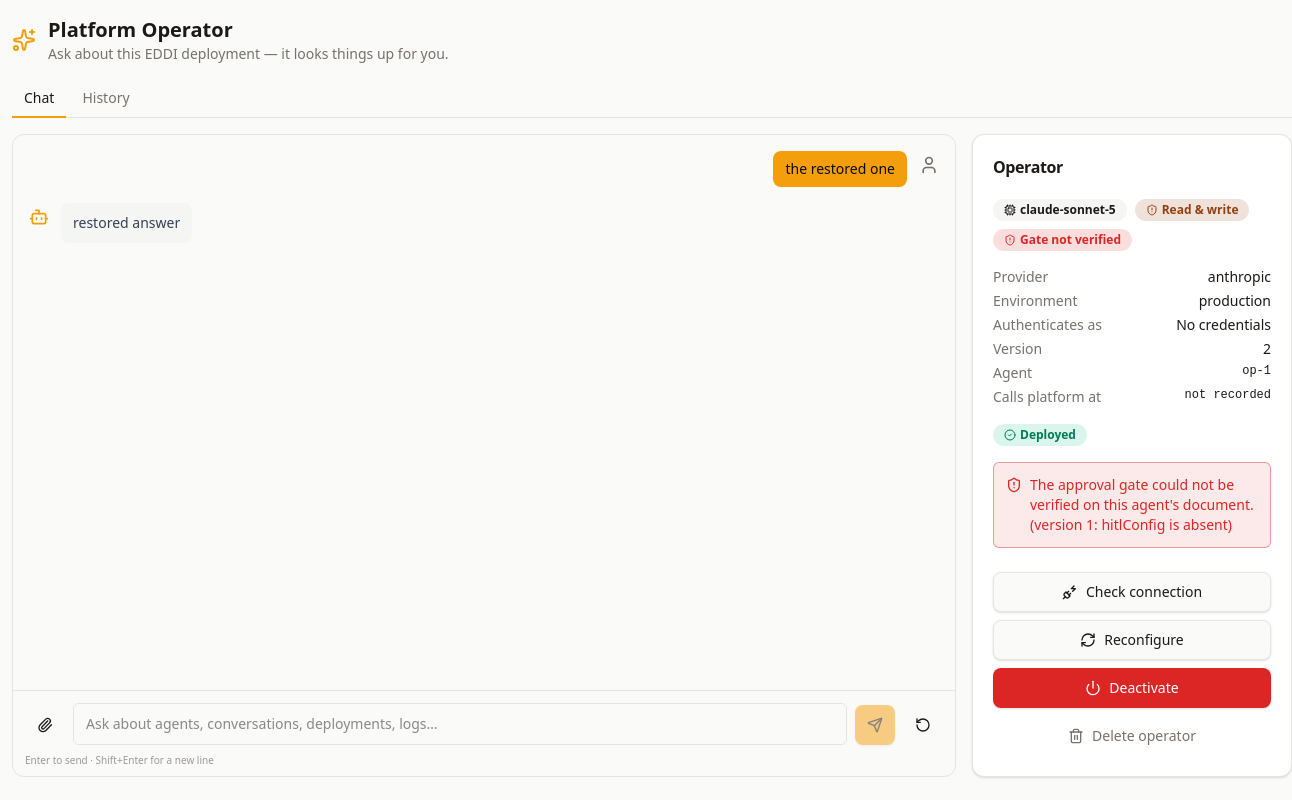
Test: OperatorPage — conversation history › loads a picked conversation into the chat and switches back to it
What coordinates should you click on to do the following:
click the tab with test id "operator-tab-history"
I would click on:
 (106, 99)
Its box is 70,80 -> 142,118.
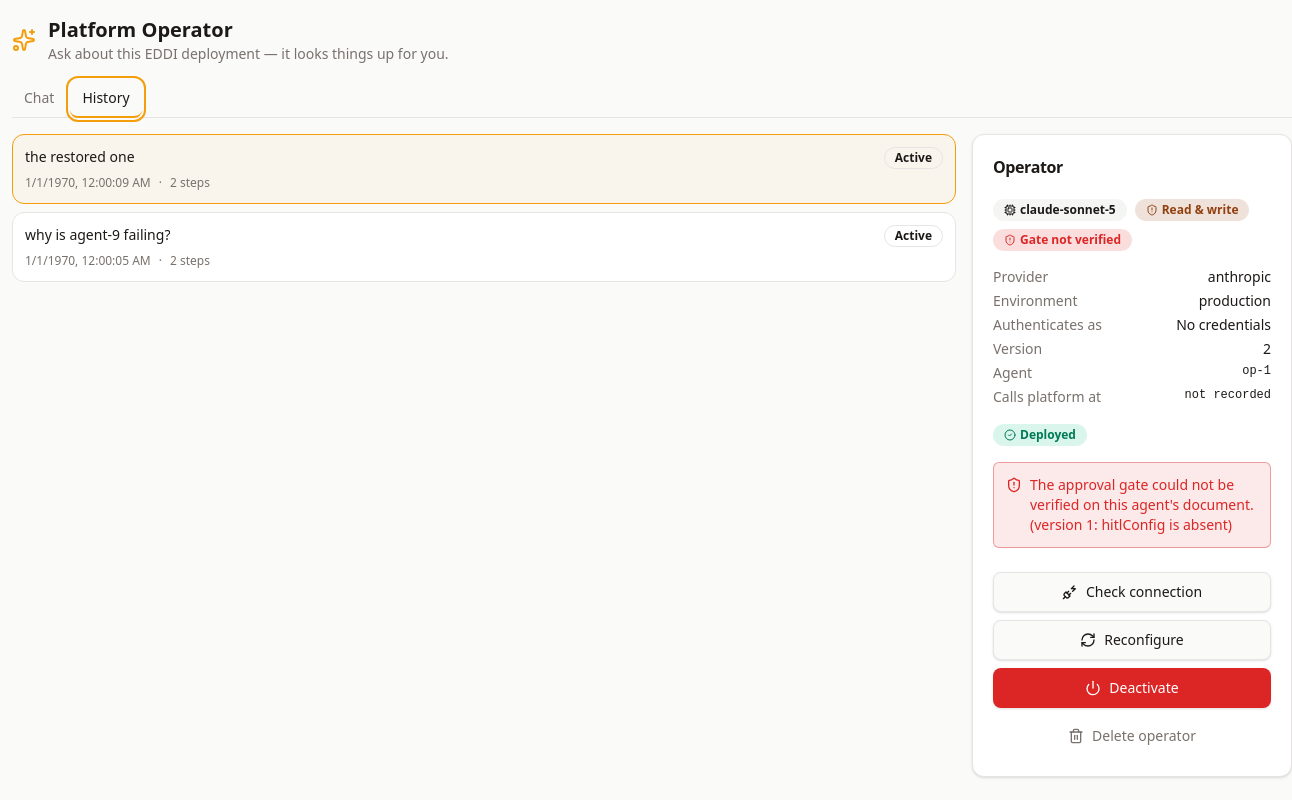
What coordinates should you click on to do the following:
click the button with test id "operator-conversation-conv-a"
I would click on:
 (98, 234)
Its box is 12,212 -> 956,282.
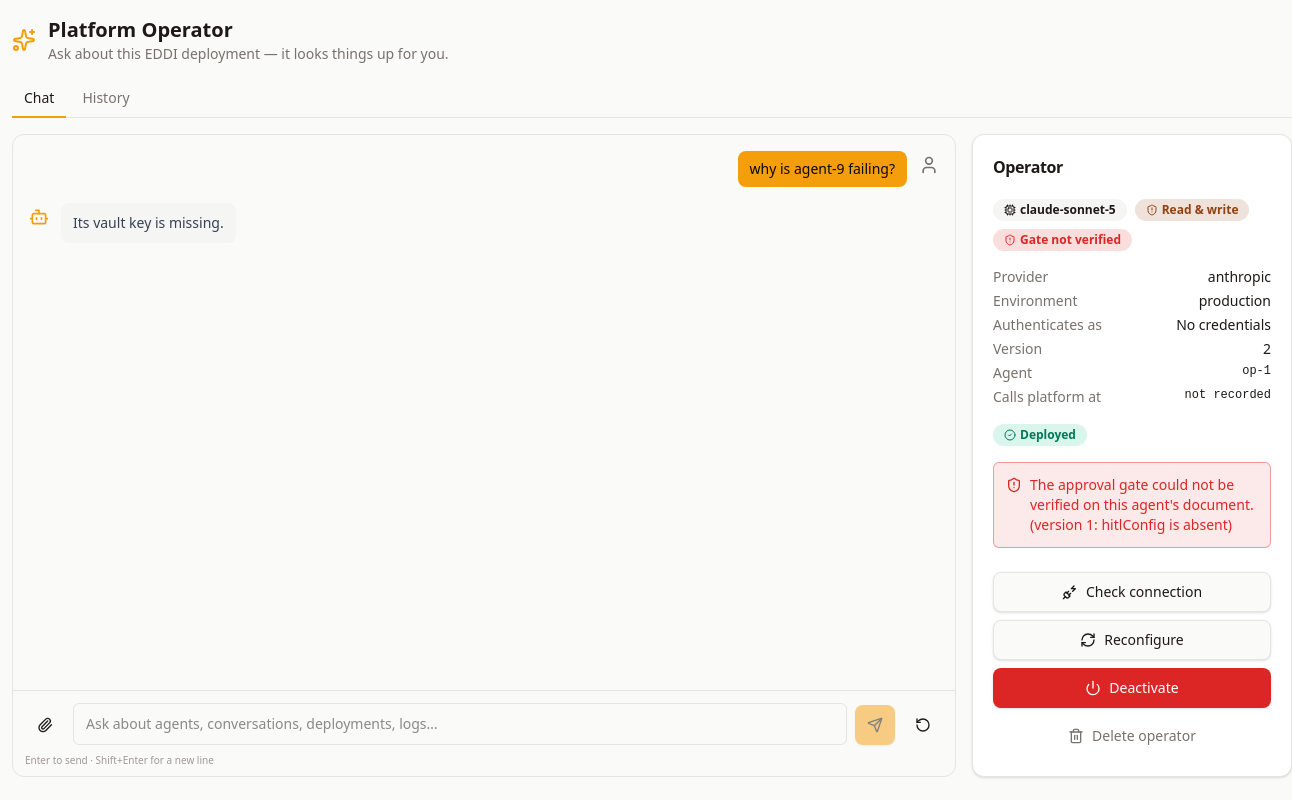
Expected: the text "restored answer" is not shown
Now the text "Its vault key is missing." is shown, box 73,211 -> 224,235
